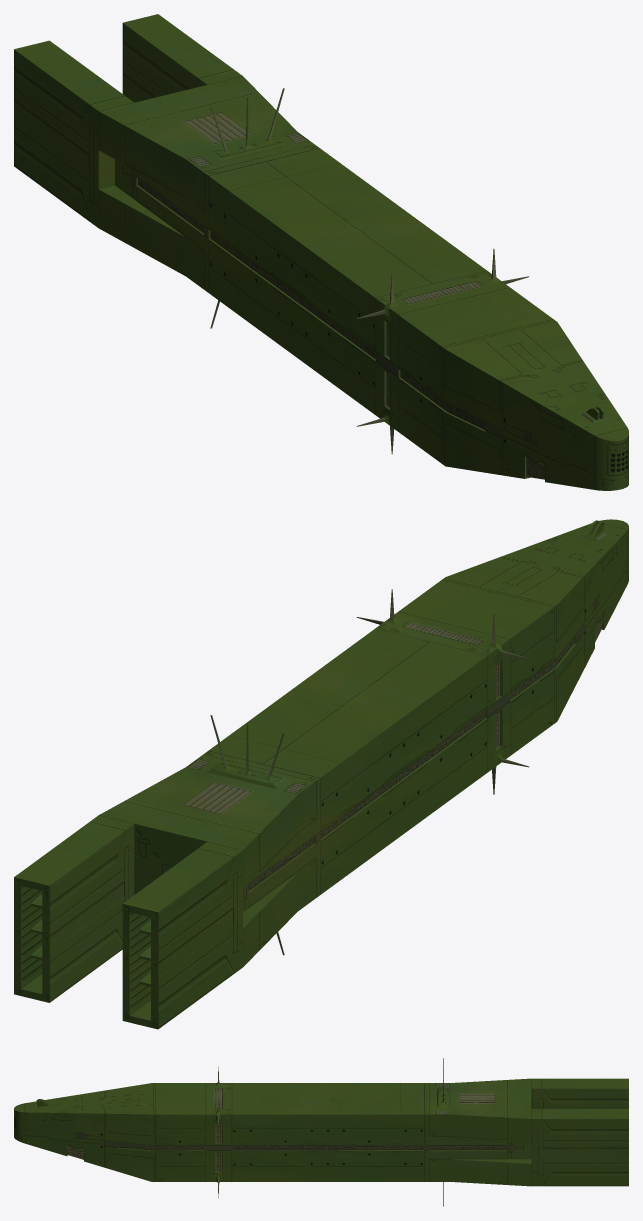
File: fpa_transport.obj
The picture shows the model from 3 angles, top to bottom: view 1: azimuth 30°, elevation 25°; view 2: azimuth 150°, elevation 25°; view 3: azimuth 270°, elevation 25°; orthographic projection. The views are drawn at different scales.
Parts seen in each view (by area): view 1: fpa_transport; view 2: fpa_transport; view 3: fpa_transport.
Boxes of the visible parts, bbox=[...] form: fpa_transport: bbox=[14, 14, 628, 490]; fpa_transport: bbox=[14, 519, 628, 1029]; fpa_transport: bbox=[14, 1058, 628, 1206].
Size of the model in its own units: 240 by 295 by 1286.
